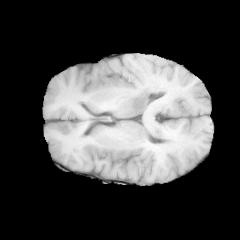glioma: (131, 86, 163, 137)
